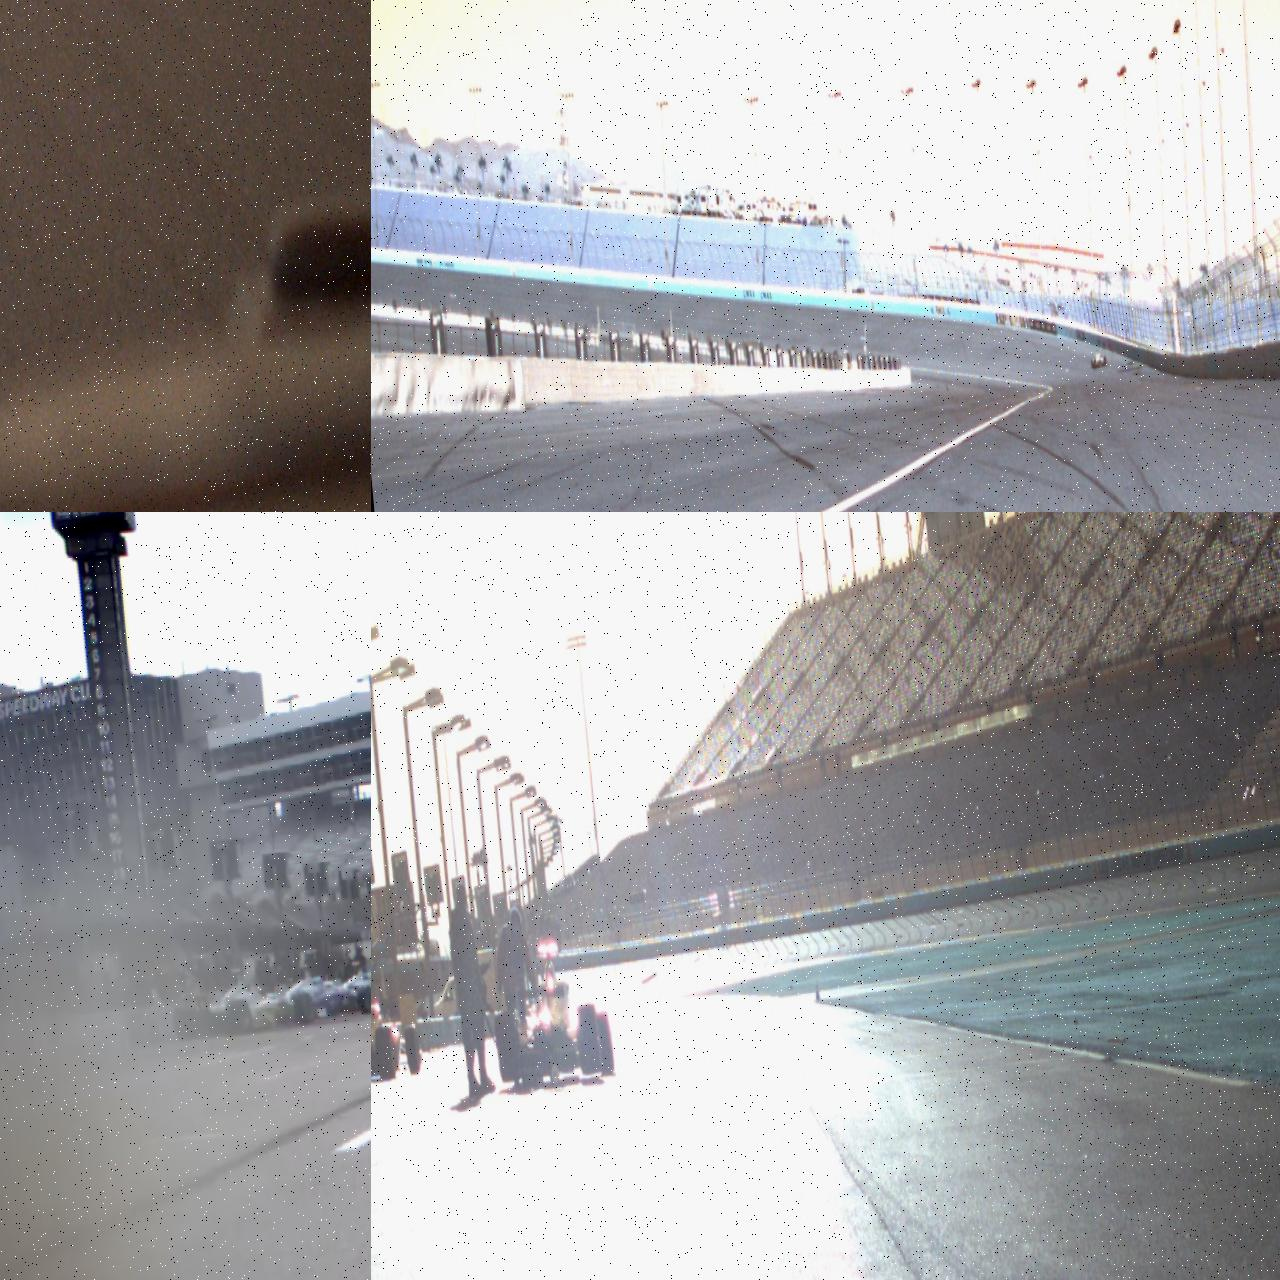AV: (488, 939, 615, 1087), (170, 960, 329, 1042), (372, 978, 423, 1085), (1090, 350, 1107, 369)
Wheel: (493, 1012, 520, 1083), (577, 1003, 604, 1073), (595, 1010, 615, 1076), (374, 1028, 396, 1081), (225, 999, 252, 1036), (404, 1024, 422, 1075), (173, 1007, 199, 1041), (294, 990, 316, 1024), (358, 983, 372, 1014), (1103, 356, 1107, 365), (1090, 359, 1094, 367), (1094, 360, 1096, 368)
